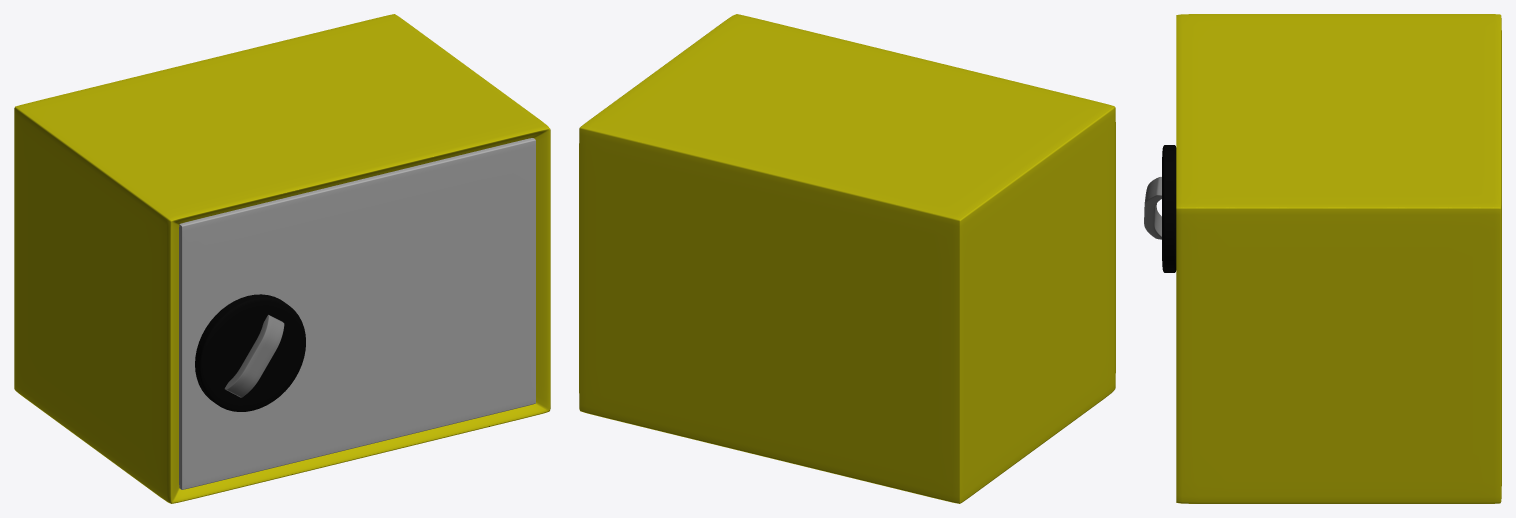
The model's file is safe box 1.fbx.
The picture shows the model from 3 angles, left to right: view 1: azimuth 30°, elevation 25°; view 2: azimuth 150°, elevation 25°; view 3: azimuth 270°, elevation 25°; orthographic projection. The views are drawn at different scales.
Parts seen in each view (by area): view 1: pasted__pCube1, pasted__pCube2, pasted__pCylinder1, pasted__pCube3; view 2: pasted__pCube1; view 3: pasted__pCube1, pasted__pCylinder1, pasted__pCube3.
Boxes of the visible parts, x1,y1,x2,y2 form: pasted__pCube1: (14, 14, 550, 503); pasted__pCube2: (179, 138, 535, 489); pasted__pCylinder1: (195, 294, 305, 411); pasted__pCube3: (224, 315, 284, 397); pasted__pCube1: (579, 14, 1115, 503); pasted__pCube1: (1176, 14, 1501, 503); pasted__pCylinder1: (1162, 145, 1176, 272); pasted__pCube3: (1144, 177, 1161, 239).
Size of the model in its own units: 90.62 by 64.73 by 70.47.
